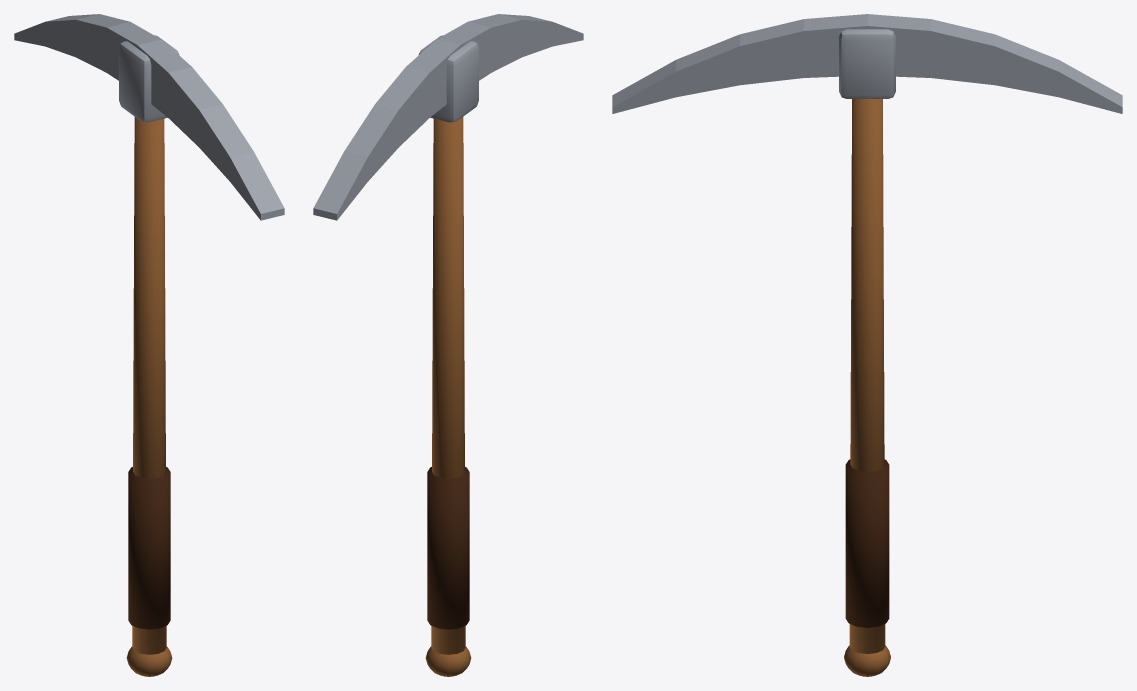
The model's file is pickaxe.glb.
3 renders of one model, left to right at view 1: azimuth 30°, elevation 25°; view 2: azimuth 150°, elevation 25°; view 3: azimuth 270°, elevation 25°, orthographic. The views are drawn at different scales.
Parts seen in each view (by area): view 1: Pickaxe; view 2: Pickaxe; view 3: Pickaxe.
Part boxes in pixels (bbox=[...]): Pickaxe: bbox=[14, 14, 284, 676]; Pickaxe: bbox=[313, 14, 583, 676]; Pickaxe: bbox=[612, 14, 1122, 676].
Size of the model in its own units: 0.05 by 0.764 by 0.54.
